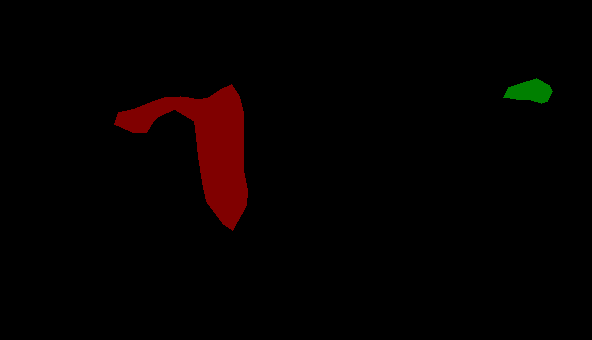fire: (114, 84, 247, 230), (503, 78, 552, 103)
